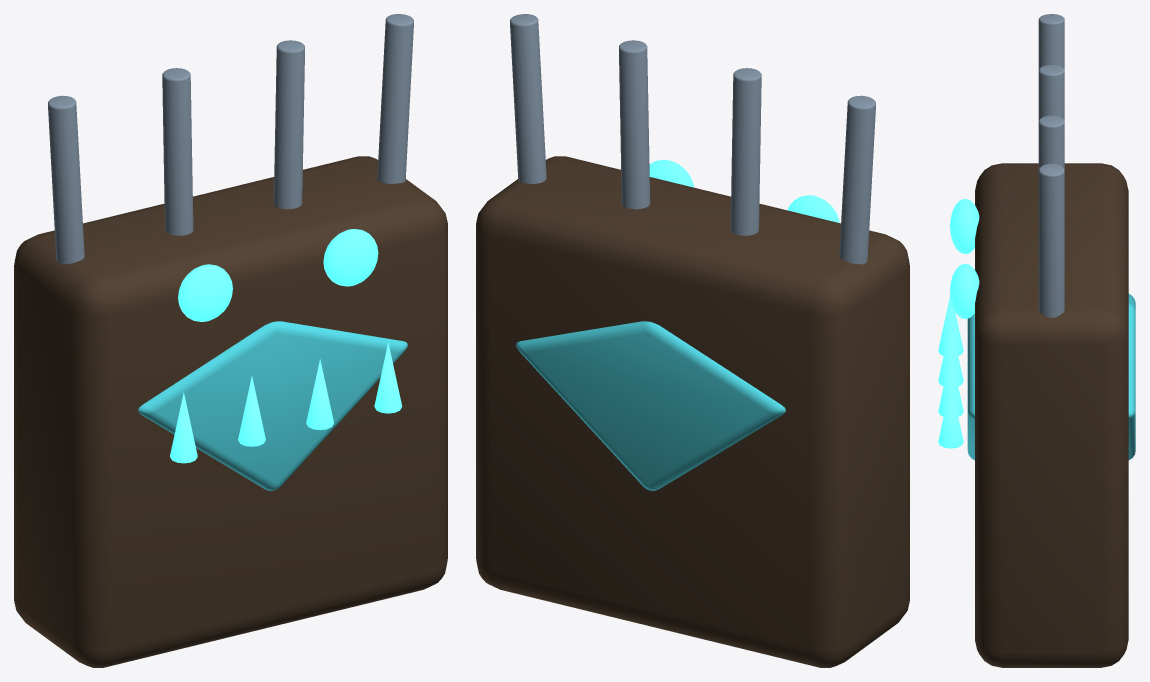
Rendered from mimic_v5.glb.
3 renders of one model, left to right at view 1: azimuth 30°, elevation 25°; view 2: azimuth 150°, elevation 25°; view 3: azimuth 270°, elevation 25°, orthographic. The views are drawn at different scales.
Parts seen in each view (by area): view 1: RACK_BODY_SECONDARY, RACK_MOUTH_ACCENT, FALSE_WEAPON_PRIMARY.003, FALSE_WEAPON_PRIMARY.002, FALSE_WEAPON_PRIMARY, FALSE_WEAPON_PRIMARY.001, EYE_EMISSIVE.001, EYE_EMISSIVE, RACK_TOOTH_EMISSIVE.001, RACK_TOOTH_EMISSIVE.003, RACK_TOOTH_EMISSIVE, RACK_TOOTH_EMISSIVE.002; view 2: RACK_BODY_SECONDARY, RACK_MOUTH_ACCENT, FALSE_WEAPON_PRIMARY.003, FALSE_WEAPON_PRIMARY.002, FALSE_WEAPON_PRIMARY, FALSE_WEAPON_PRIMARY.001, EYE_EMISSIVE, EYE_EMISSIVE.001; view 3: RACK_BODY_SECONDARY, FALSE_WEAPON_PRIMARY.003, RACK_MOUTH_ACCENT, FALSE_WEAPON_PRIMARY.001, FALSE_WEAPON_PRIMARY, FALSE_WEAPON_PRIMARY.002, EYE_EMISSIVE, EYE_EMISSIVE.001, RACK_TOOTH_EMISSIVE.003, RACK_TOOTH_EMISSIVE.002, RACK_TOOTH_EMISSIVE.001, RACK_TOOTH_EMISSIVE.
Boxes of the visible parts, x1,y1,x2,y2 form: RACK_BODY_SECONDARY: (14,156,447,667); RACK_MOUTH_ACCENT: (138,321,407,490); FALSE_WEAPON_PRIMARY.003: (377,14,413,183); FALSE_WEAPON_PRIMARY.002: (273,40,304,209); FALSE_WEAPON_PRIMARY: (48,95,84,264); FALSE_WEAPON_PRIMARY.001: (162,68,193,235); EYE_EMISSIVE.001: (323,229,378,286); EYE_EMISSIVE: (178,264,232,321); RACK_TOOTH_EMISSIVE.001: (238,376,265,446); RACK_TOOTH_EMISSIVE.003: (374,342,402,413); RACK_TOOTH_EMISSIVE: (170,392,197,463); RACK_TOOTH_EMISSIVE.002: (306,359,333,430); RACK_BODY_SECONDARY: (476,156,909,667); RACK_MOUTH_ACCENT: (516,321,785,490); FALSE_WEAPON_PRIMARY.003: (510,14,546,183); FALSE_WEAPON_PRIMARY.002: (619,40,650,209); FALSE_WEAPON_PRIMARY: (839,95,875,264); FALSE_WEAPON_PRIMARY.001: (730,68,761,235); EYE_EMISSIVE: (787,195,839,222); EYE_EMISSIVE.001: (649,159,694,187); RACK_BODY_SECONDARY: (975,163,1128,667); FALSE_WEAPON_PRIMARY.003: (1038,163,1064,317); RACK_MOUTH_ACCENT: (967,294,1135,460); FALSE_WEAPON_PRIMARY.001: (1038,64,1064,120); FALSE_WEAPON_PRIMARY: (1038,14,1064,69); FALSE_WEAPON_PRIMARY.002: (1038,115,1064,169); EYE_EMISSIVE: (950,199,979,253); EYE_EMISSIVE.001: (950,264,979,318); RACK_TOOTH_EMISSIVE.003: (938,384,963,448); RACK_TOOTH_EMISSIVE.002: (938,353,963,416); RACK_TOOTH_EMISSIVE.001: (938,323,963,386); RACK_TOOTH_EMISSIVE: (938,295,963,355).
Bounding box in the file's own units: 1.28 × 1.8 × 0.642.
